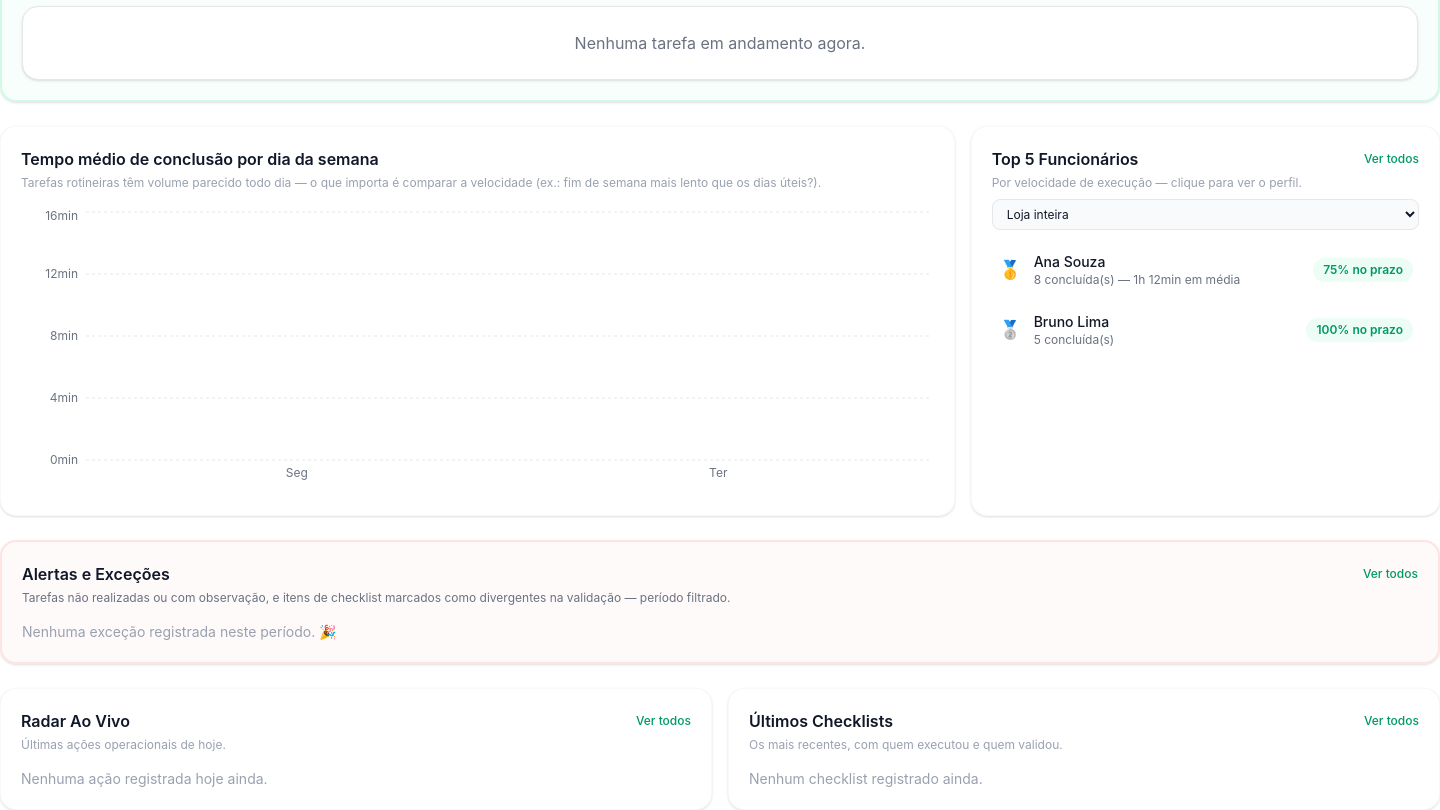
Test case: AdminDashboardPage › "Ver todos" em Alertas e Exceções abre a listagem completa com filtro de período
(page scrolled)
Expected: the text "Ana Souza" is shown, x1=1034 y1=253 x2=1105 y2=270
Click the button "Ver todos" in the row of "Alertas e Exceções": (1390, 574) x1=1363 y1=566 x2=1418 y2=582
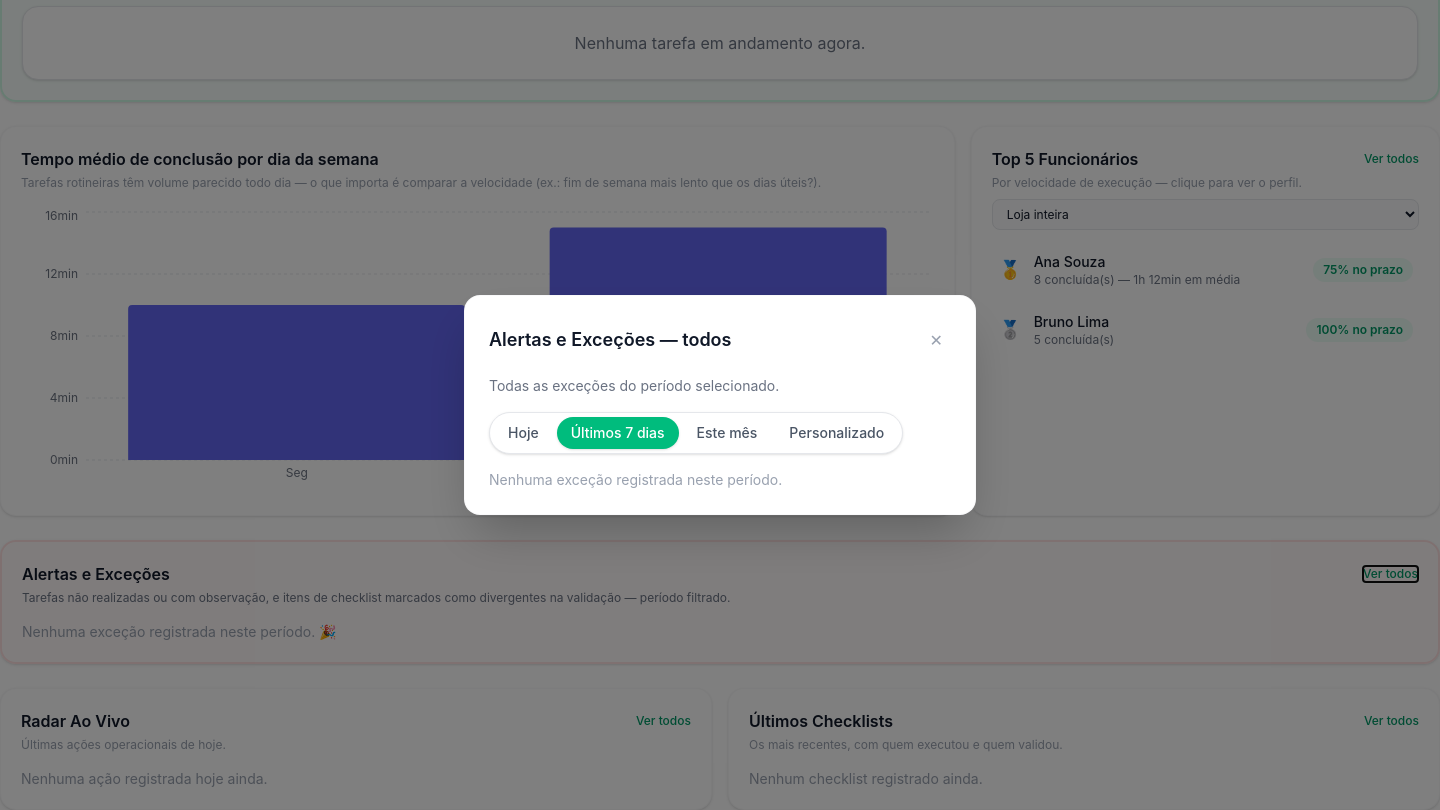
Result: the heading "Alertas e Exceções — todos" is shown at x1=489 y1=326 x2=732 y2=354
Result: the number of buttons "Personalizado" is 2
